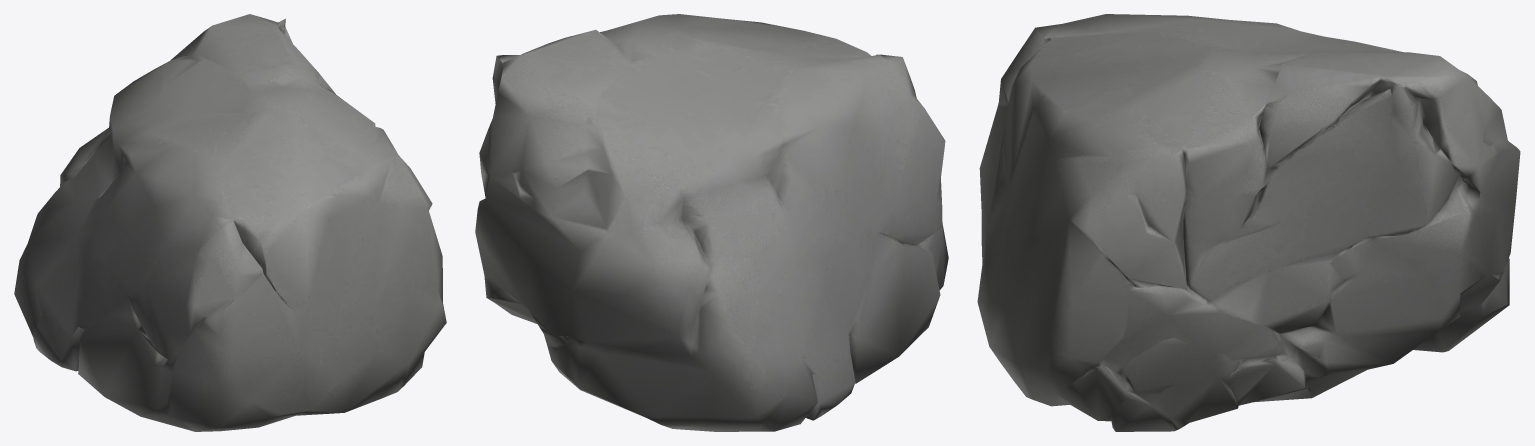
The model's file is rock-c.glb.
3 views of the same model, side by side, from view 1: azimuth 30°, elevation 25°; view 2: azimuth 150°, elevation 25°; view 3: azimuth 270°, elevation 25° (orthographic). The views are drawn at different scales.
Size of the model in its own units: 1.53 by 1.36 by 1.9.
1 material, 1 textured.
